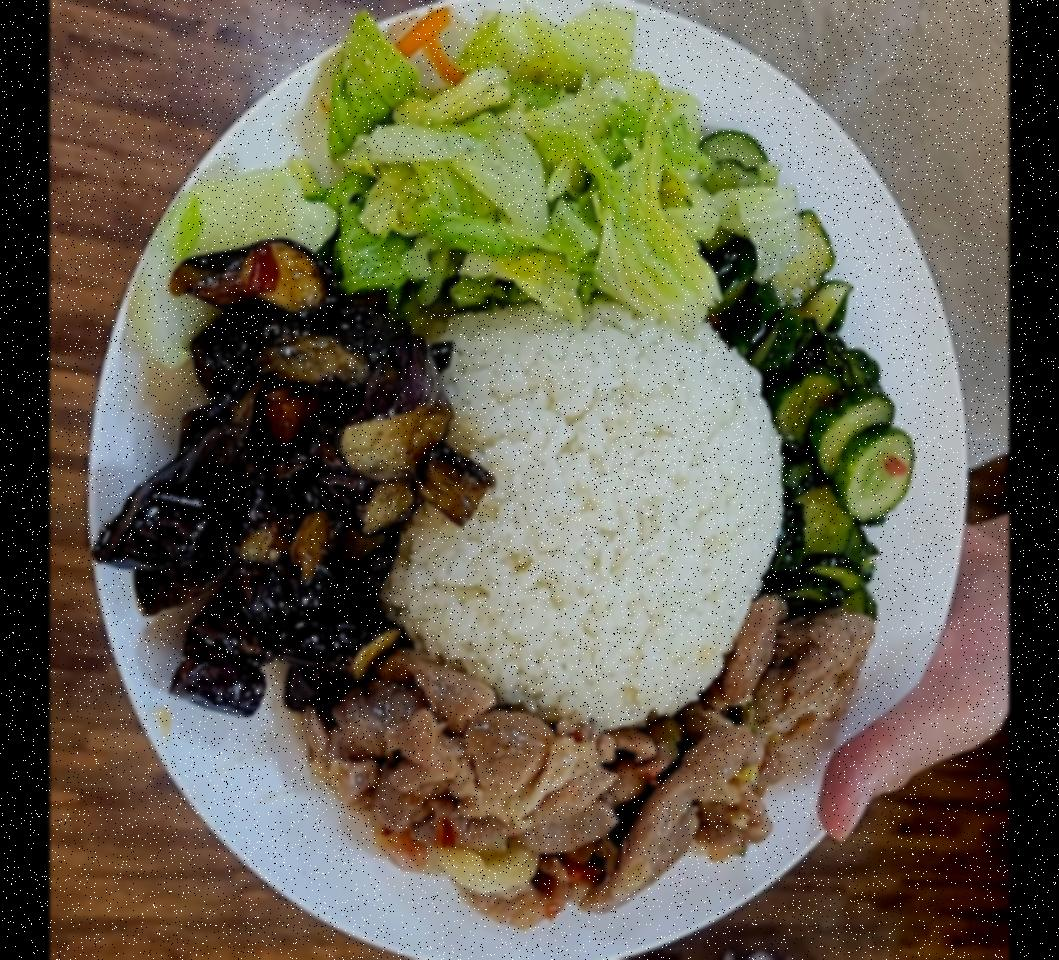garlic white meat: (303, 593, 890, 915)
plate: (78, 0, 979, 960)
side dish: (99, 237, 459, 717), (322, 4, 746, 317), (698, 121, 926, 633)
white rice: (374, 294, 791, 726)
